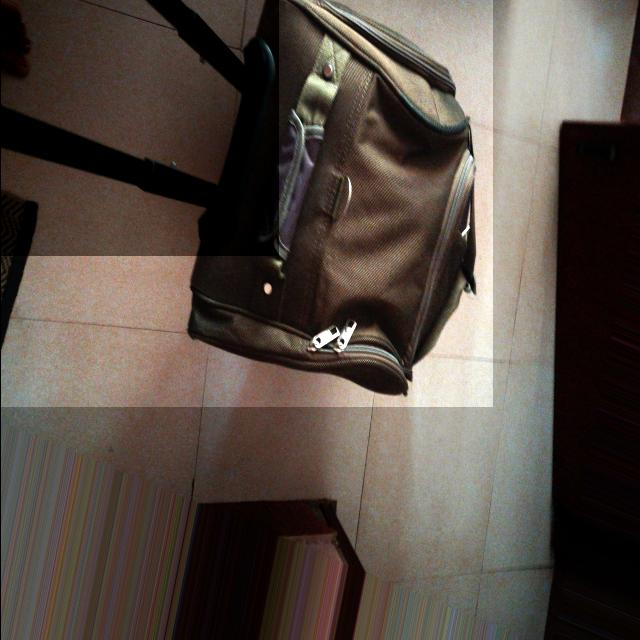Bag: (0, 4, 499, 415)
Handle: (2, 0, 275, 247)
